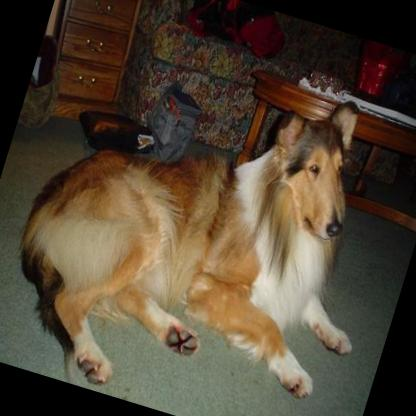collie: (0, 11, 416, 416)
